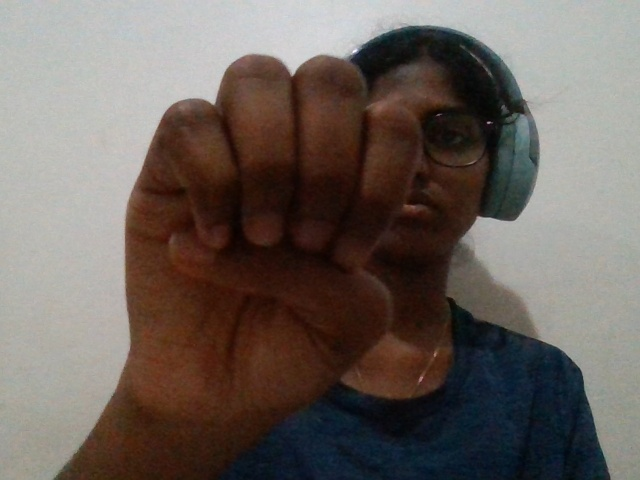E: (104, 35, 455, 463)
